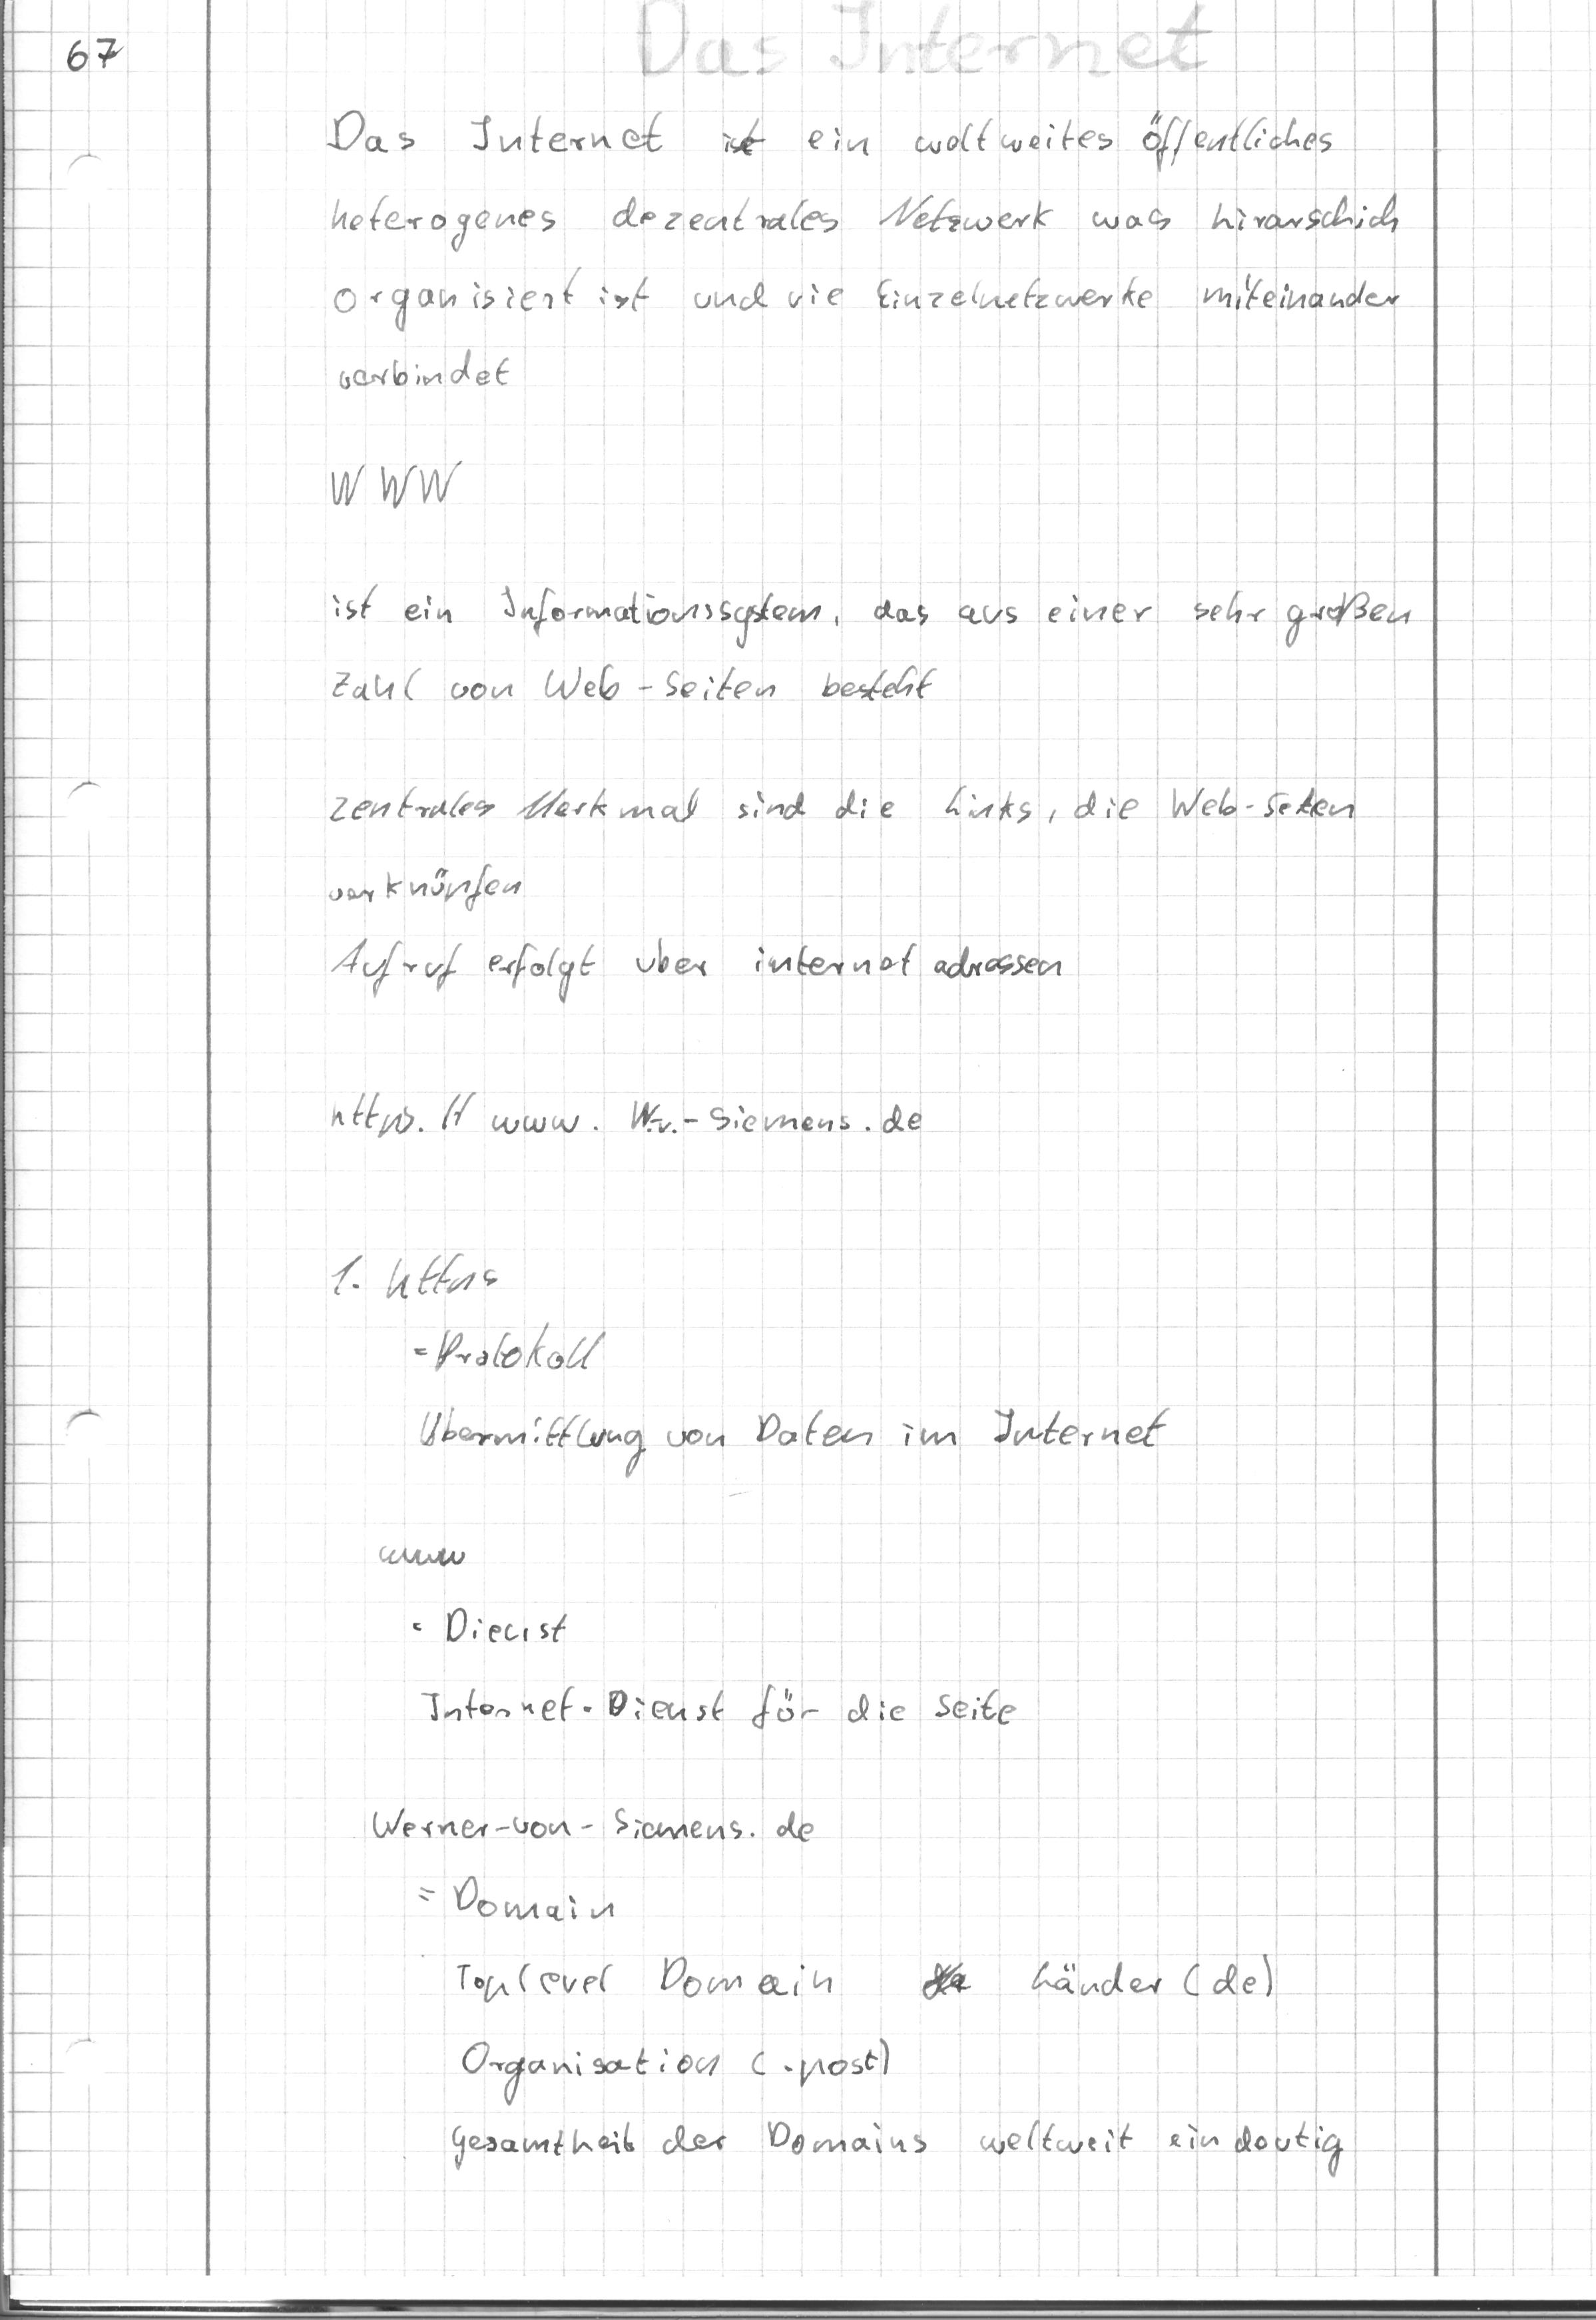word: (350, 1781, 1360, 2200), (319, 99, 1418, 404), (316, 441, 1428, 717), (314, 768, 1379, 1009), (304, 1227, 1183, 1502), (356, 1515, 1047, 1754), (310, 1051, 970, 1198)
